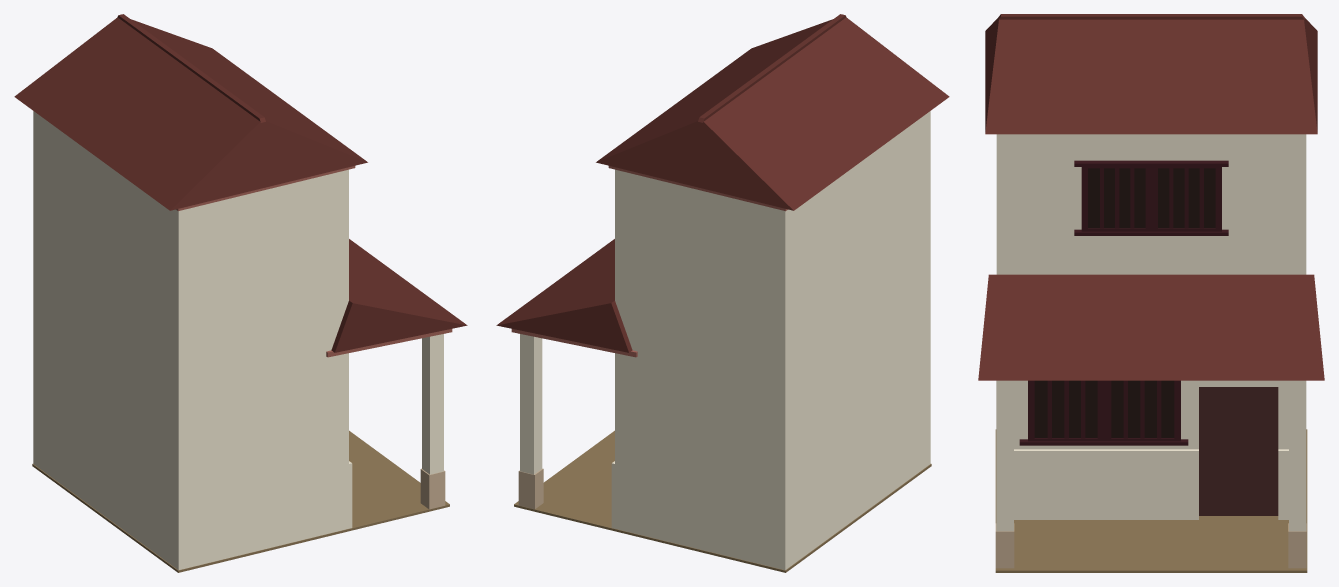
File: 1700 Shophouse.fbx
3 renders of one model, left to right at view 1: azimuth 30°, elevation 25°; view 2: azimuth 150°, elevation 25°; view 3: azimuth 270°, elevation 25°, orthographic. The views are drawn at different scales.
Parts seen in each view (by area): view 1: Cube, Cylinder, Cube.004, Cube.002, Cube.010; view 2: Cube, Cylinder, Cube.004, Cube.002, Cube.010; view 3: Cylinder, Cube, Cube.004, Cube.011, Cube.008, Cube.001, Cube.003, Cube.010.
Part boxes in pixels (x1=…): Cube: x1=33, y1=111, x2=443, y2=570; Cylinder: x1=14, y1=14, x2=467, y2=352; Cube.004: x1=32, y1=430, x2=449, y2=572; Cube.002: x1=176, y1=166, x2=452, y2=357; Cube.010: x1=420, y1=468, x2=445, y2=509; Cube: x1=520, y1=111, x2=930, y2=570; Cylinder: x1=496, y1=14, x2=949, y2=352; Cube.004: x1=514, y1=430, x2=931, y2=572; Cube.002: x1=511, y1=166, x2=787, y2=357; Cube.010: x1=518, y1=468, x2=543, y2=509; Cylinder: x1=978, y1=14, x2=1324, y2=380; Cube: x1=996, y1=134, x2=1306, y2=531; Cube.004: x1=995, y1=429, x2=1307, y2=572; Cube.011: x1=1019, y1=160, x2=1228, y2=445; Cube.008: x1=1199, y1=387, x2=1278, y2=515; Cube.001: x1=1034, y1=380, x2=1174, y2=437; Cube.003: x1=1088, y1=168, x2=1215, y2=228; Cube.010: x1=995, y1=523, x2=1306, y2=568.
Bounding box in the file's own units: 586 × 823 × 560.
